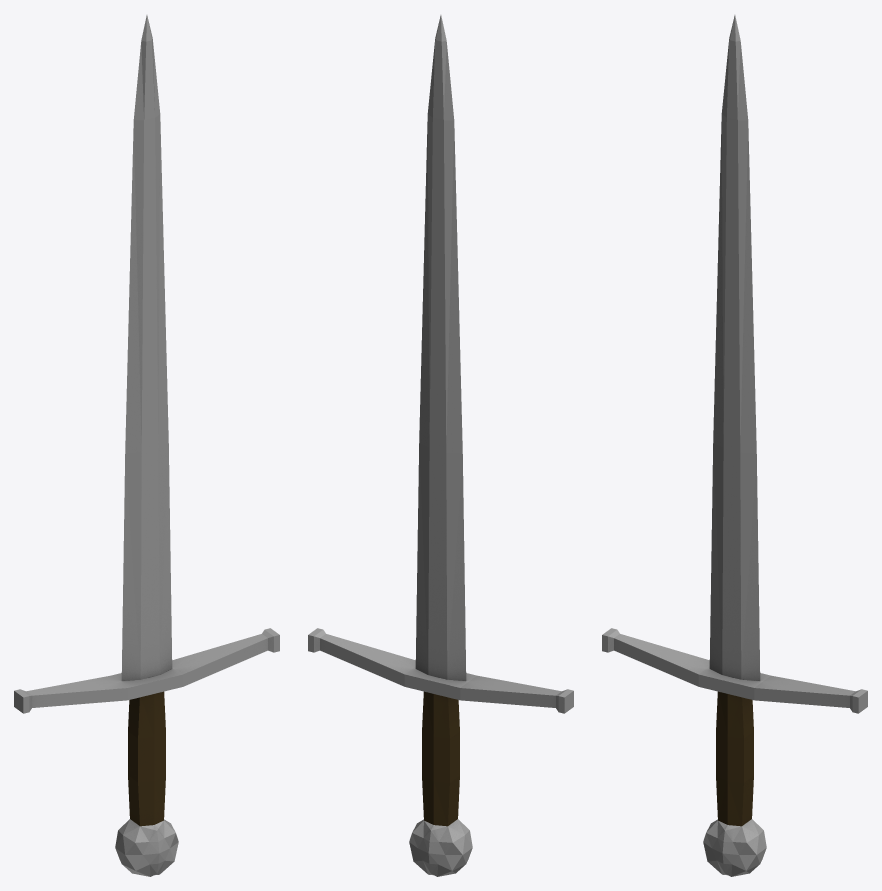
File: simplesword.fbx
3 renders of one model, left to right at view 1: azimuth 30°, elevation 25°; view 2: azimuth 150°, elevation 25°; view 3: azimuth 330°, elevation 25°, orthographic.
Parts seen in each view (by area): view 1: sword1:Mesh; view 2: sword1:Mesh; view 3: sword1:Mesh.
Part boxes in pixels (x1=…): sword1:Mesh: x1=14, y1=15, x2=279, y2=876; sword1:Mesh: x1=308, y1=15, x2=573, y2=876; sword1:Mesh: x1=602, y1=15, x2=867, y2=876.
Size of the model in its own units: 9.1 by 29.16 by 1.51.
